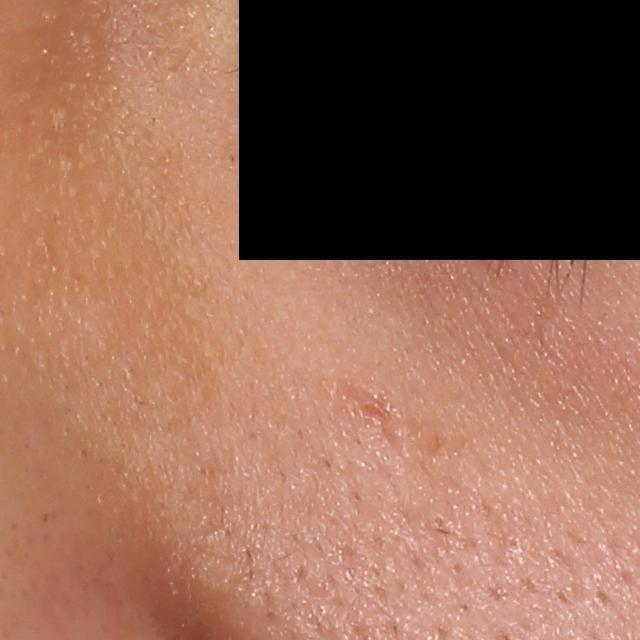comedo: (430, 511, 449, 530)
